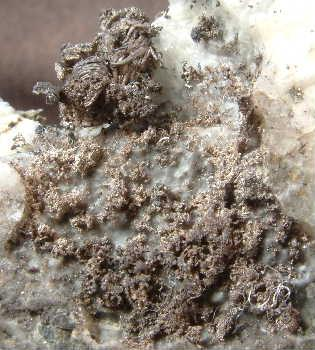silver: (0, 0, 315, 350), (80, 100, 298, 344), (62, 8, 161, 126), (17, 127, 88, 222), (120, 126, 225, 186), (8, 213, 79, 258)
